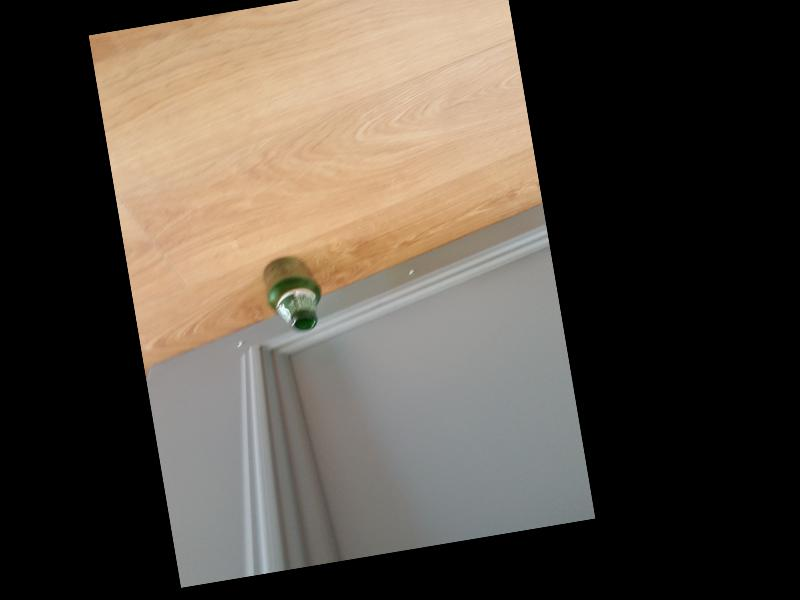Beer: (261, 252, 326, 335)
